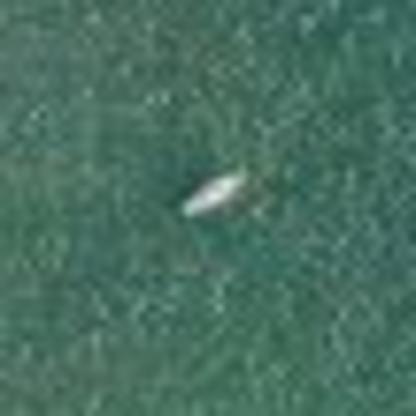ship: (165, 155, 265, 241)
